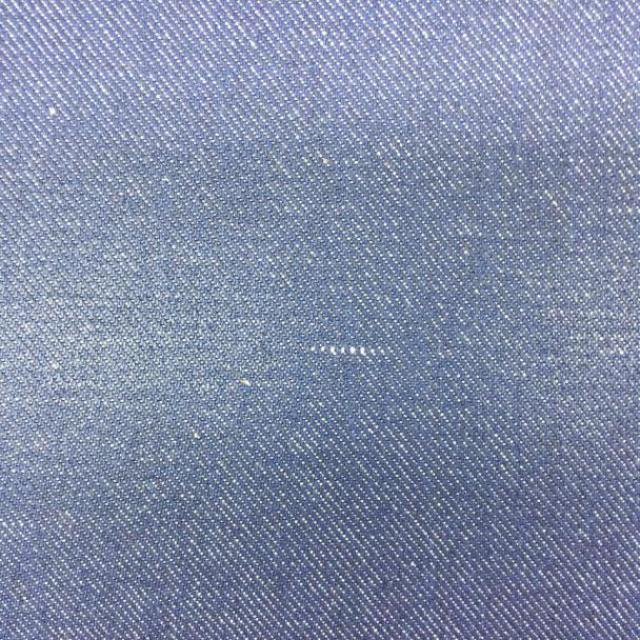Knot: (309, 344, 386, 357)
